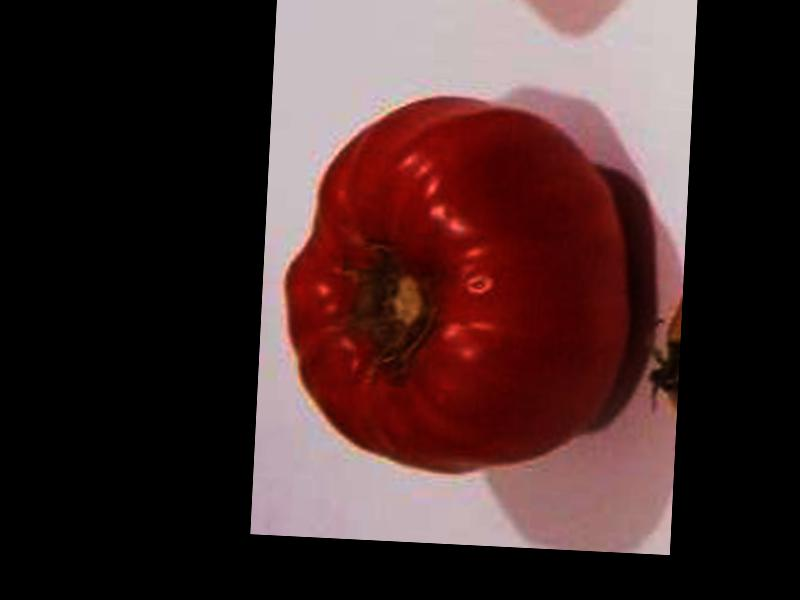Tomato: (279, 93, 635, 479)
